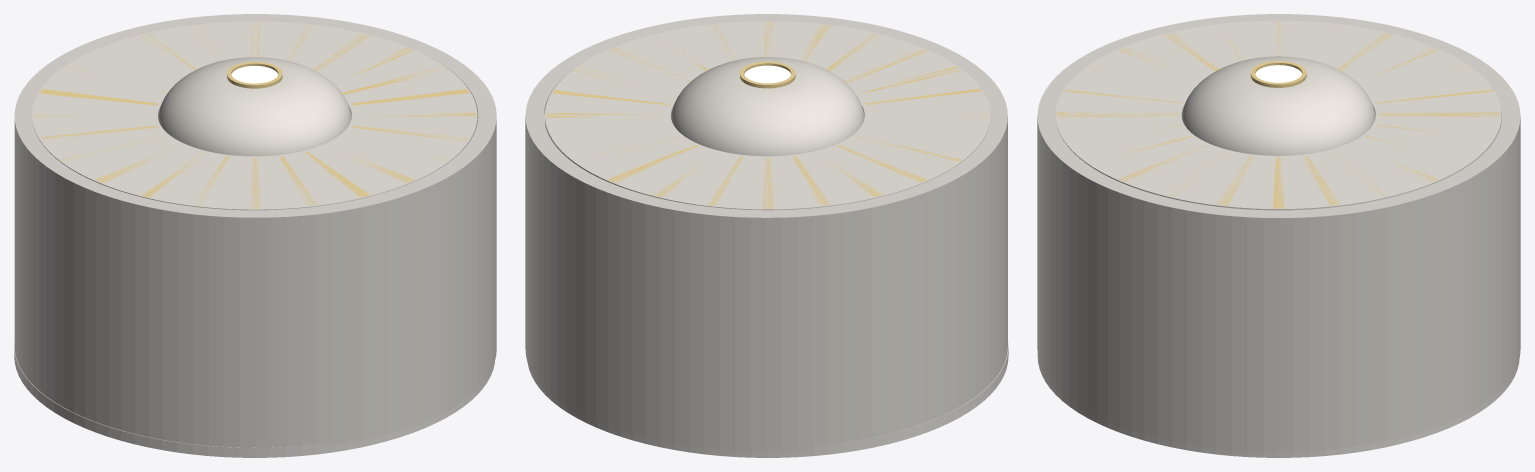
The model's file is home-elevator-environment.glb.
3 renders of one model, left to right at view 1: azimuth 30°, elevation 25°; view 2: azimuth 150°, elevation 25°; view 3: azimuth 270°, elevation 25°, orthographic.
Parts seen in each view (by area): view 1: Wall_Rotunda, Ceiling_Ring, Ceiling_Dome, Ceiling_Ring_Detail, Floor_Ground, Ceiling_Skylight, Ceiling_Oculus_Ring; view 2: Wall_Rotunda, Ceiling_Ring, Ceiling_Dome, Ceiling_Ring_Detail, Floor_Ground, Ceiling_Skylight, Ceiling_Oculus_Ring; view 3: Wall_Rotunda, Ceiling_Ring, Ceiling_Dome, Ceiling_Ring_Detail, Floor_Ground, Ceiling_Skylight, Ceiling_Oculus_Ring.
Part boxes in pixels (x1,y1,x2,y2): Wall_Rotunda: (14, 14, 496, 447); Ceiling_Ring: (32, 21, 477, 210); Ceiling_Dome: (158, 57, 351, 156); Ceiling_Ring_Detail: (34, 22, 475, 208); Floor_Ground: (14, 343, 494, 457); Ceiling_Skylight: (231, 66, 278, 83); Ceiling_Oculus_Ring: (227, 61, 282, 88); Wall_Rotunda: (525, 14, 1007, 451); Ceiling_Ring: (545, 21, 990, 210); Ceiling_Dome: (671, 57, 864, 156); Ceiling_Ring_Detail: (546, 21, 988, 208); Floor_Ground: (527, 341, 1008, 457); Ceiling_Skylight: (744, 65, 790, 83); Ceiling_Oculus_Ring: (740, 61, 795, 88); Wall_Rotunda: (1037, 14, 1520, 451); Ceiling_Ring: (1055, 20, 1501, 210); Ceiling_Dome: (1182, 56, 1375, 155); Ceiling_Ring_Detail: (1057, 21, 1500, 208); Floor_Ground: (1037, 355, 1519, 457); Ceiling_Skylight: (1255, 65, 1301, 82); Ceiling_Oculus_Ring: (1250, 61, 1306, 87).
Size of the model in its own units: 19.42 by 12.55 by 19.4.
